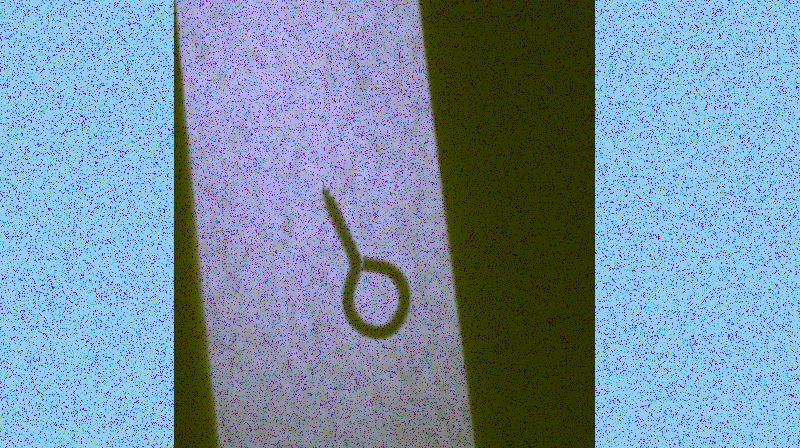O001: (317, 183, 415, 346)
